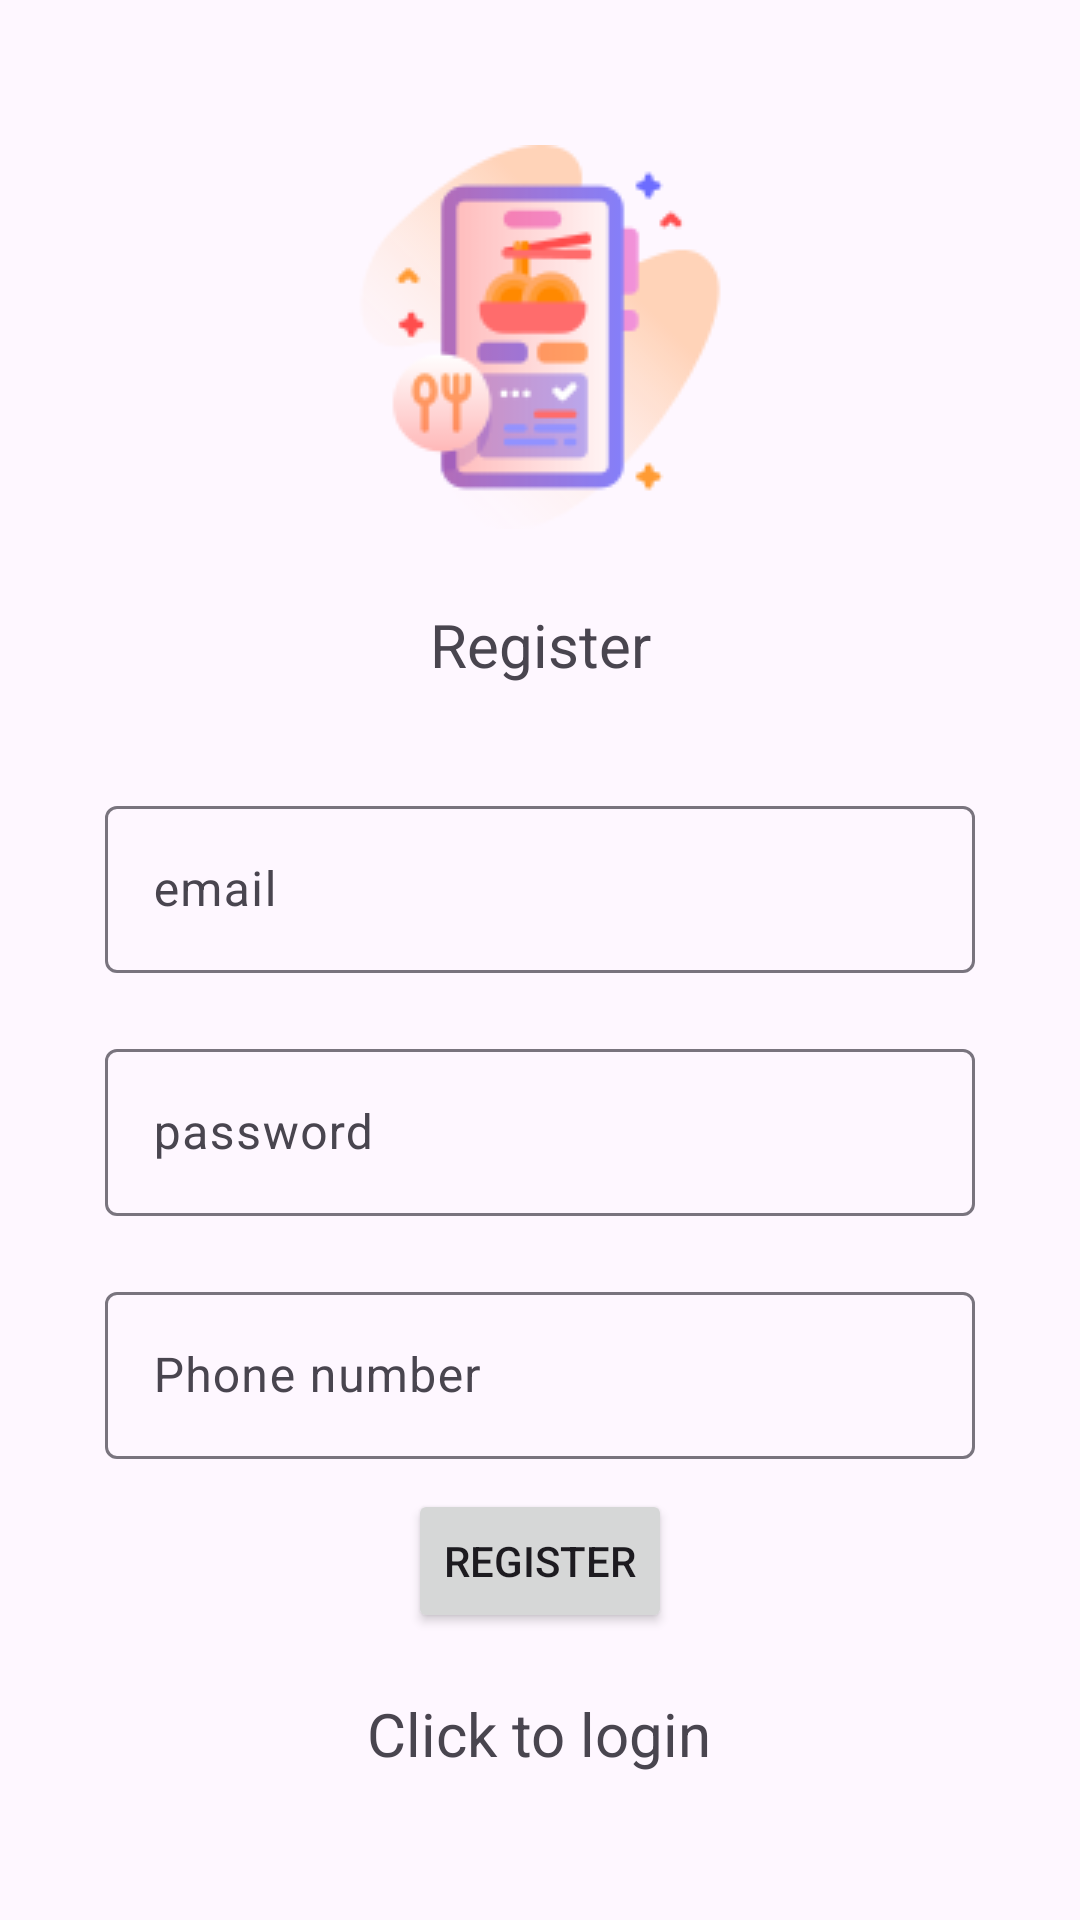

Icons on this 1080w x 1920h Android screen, each with its box as (x1, y1, x2, y2):
culinary: (394, 145, 720, 491)
